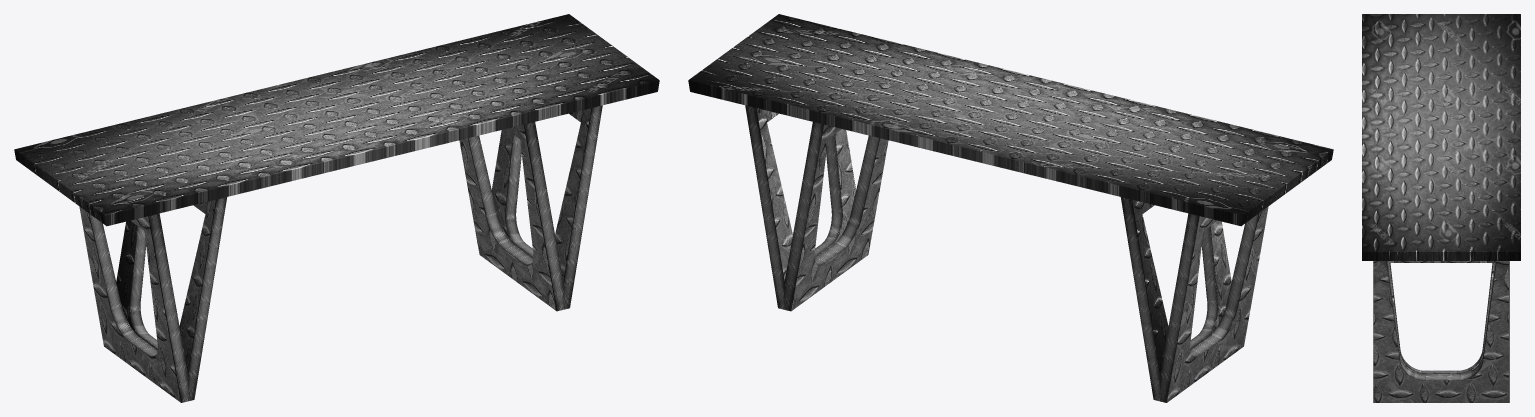
Rendered from mesam.obj.
The picture shows the model from 3 angles, left to right: view 1: azimuth 30°, elevation 25°; view 2: azimuth 150°, elevation 25°; view 3: azimuth 270°, elevation 25°; orthographic projection. The views are drawn at different scales.
Visible parts, largest first — view 1: odesd2_B2; view 2: odesd2_B2; view 3: odesd2_B2.
Part boxes in pixels (x1,y1,x2,y2): odesd2_B2: [14, 14, 659, 402]; odesd2_B2: [688, 14, 1333, 402]; odesd2_B2: [1362, 14, 1520, 402].
Bounding box in the file's own units: 43.04 × 15.76 × 12.15.
Materials: 1 (1 with a texture image).
